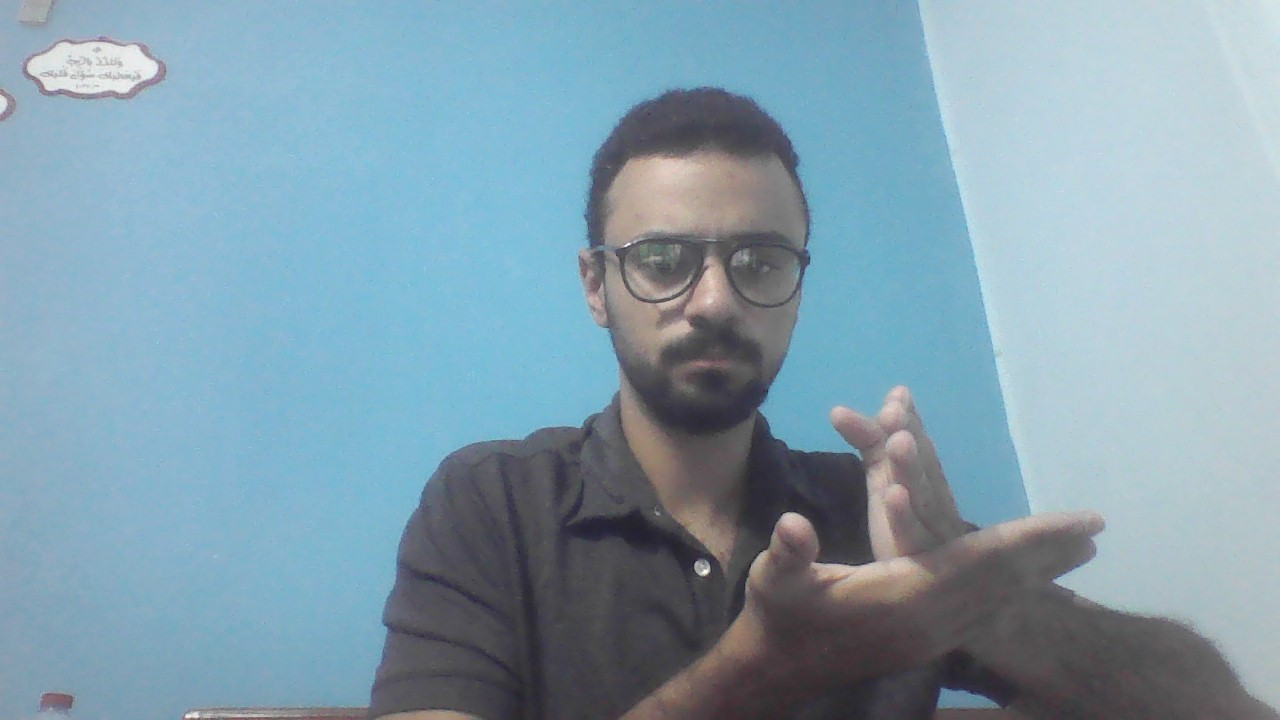stop: (737, 379, 1100, 675)
